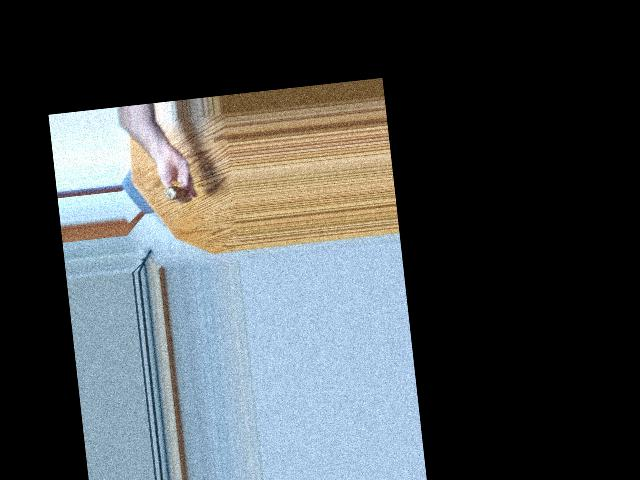sweet_potato: (159, 179, 193, 206)
